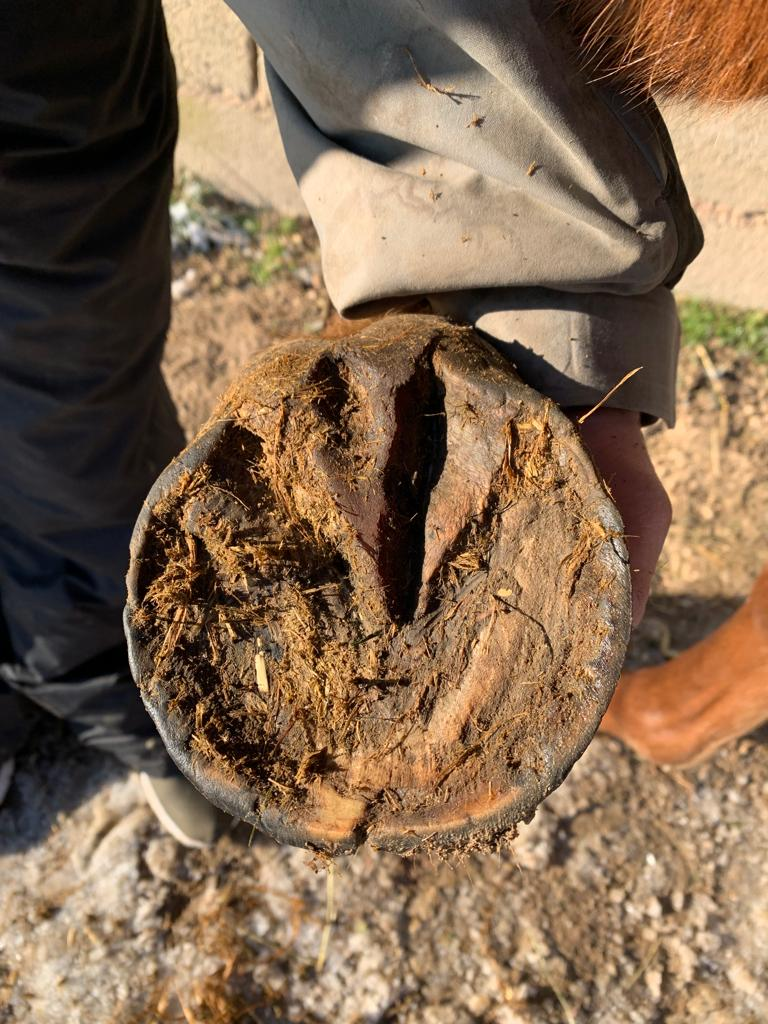horsesole: (123, 353, 631, 853)
